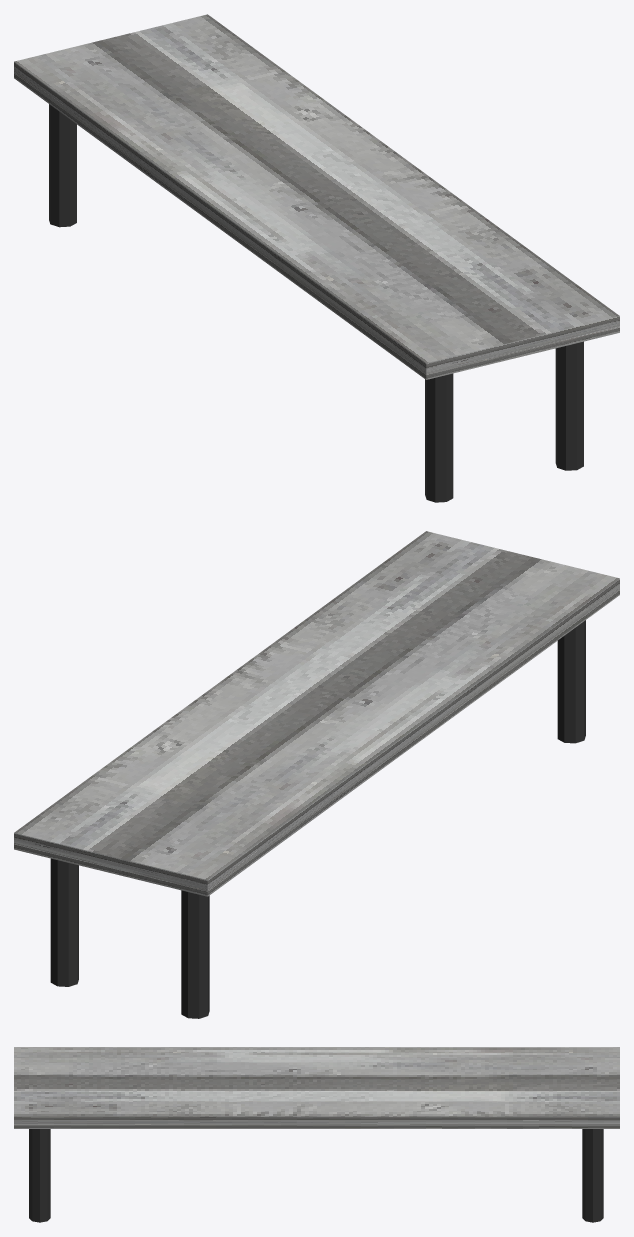
The model's file is bench.glb.
The picture shows the model from 3 angles, top to bottom: view 1: azimuth 30°, elevation 25°; view 2: azimuth 150°, elevation 25°; view 3: azimuth 270°, elevation 25°; orthographic projection. The views are drawn at different scales.
Visible parts, largest first — view 1: Bench, Pegs; view 2: Bench, Pegs; view 3: Bench, Pegs.
Part boxes in pixels (left/top/right/bottom): Bench: left=14, top=14, right=619, bottom=379; Pegs: left=49, top=104, right=583, bottom=502; Bench: left=14, top=531, right=619, bottom=896; Pegs: left=50, top=620, right=585, bottom=1018; Bench: left=14, top=1047, right=619, bottom=1128; Pegs: left=29, top=1129, right=603, bottom=1222.
Size of the model in its own units: 2 by 1.52 by 7.37.
2 materials, 1 textured.
